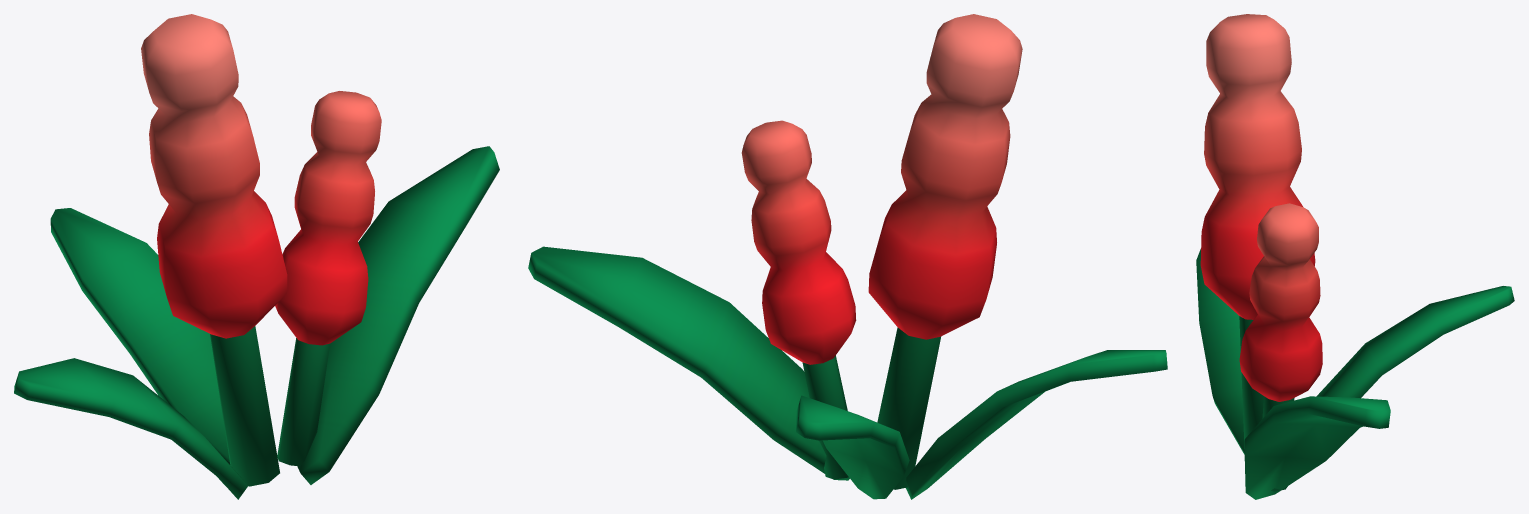
The model's file is Flover_02.01.fbx.
The picture shows the model from 3 angles, left to right: view 1: azimuth 30°, elevation 25°; view 2: azimuth 150°, elevation 25°; view 3: azimuth 270°, elevation 25°; orthographic projection. The views are drawn at different scales.
Parts seen in each view (by area): view 1: Flover_02.01; view 2: Flover_02.01; view 3: Flover_02.01.
Boxes of the visible parts, x1,y1,x2,y2 form: Flover_02.01: (14, 14, 499, 499); Flover_02.01: (528, 14, 1167, 499); Flover_02.01: (1196, 14, 1514, 499).
Bounding box in the file's own units: 52.79 × 29.67 × 44.01.
